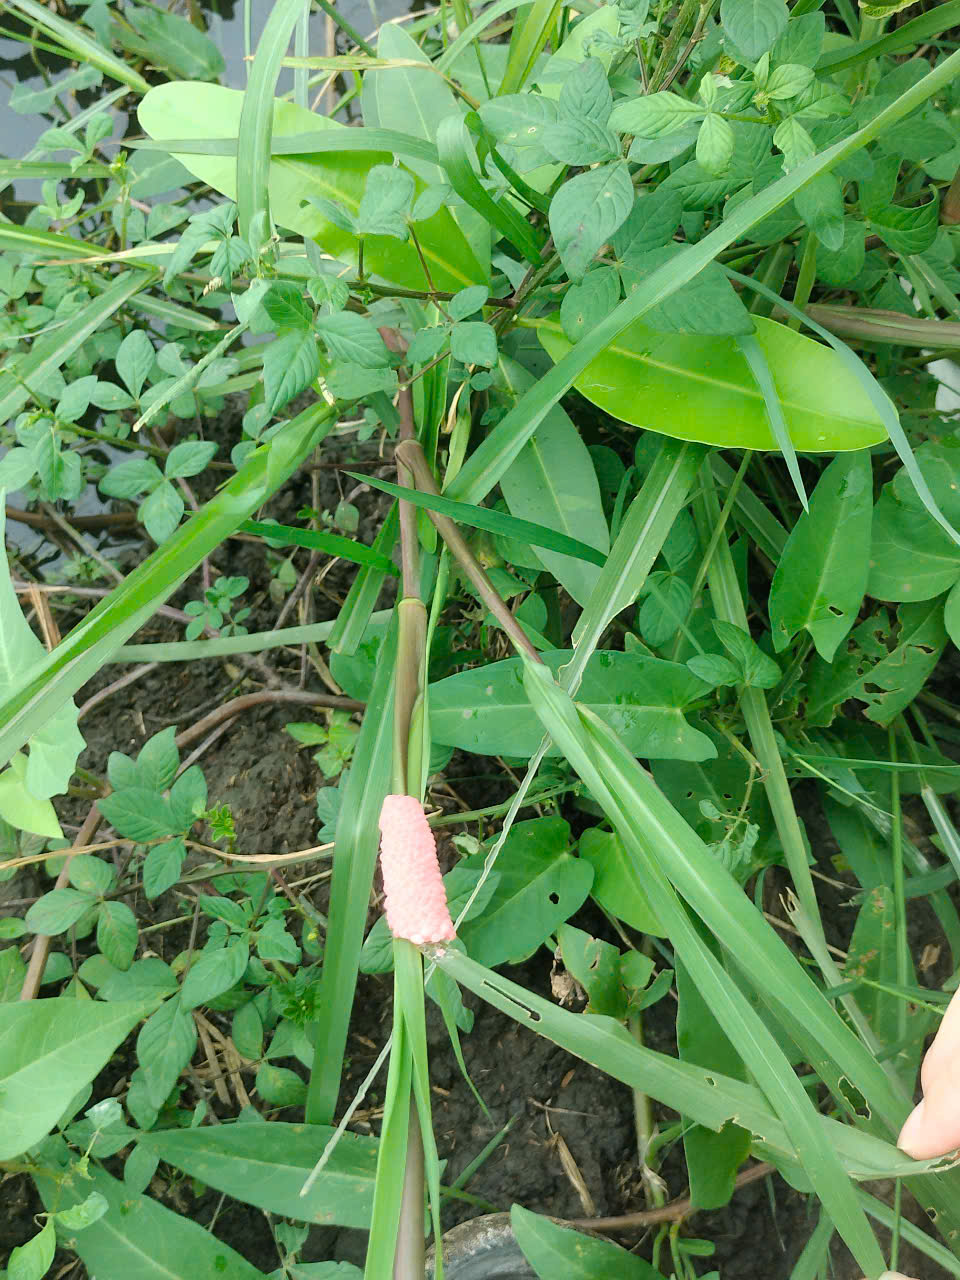trung_oc_buou_vang: (334, 725, 475, 993)
